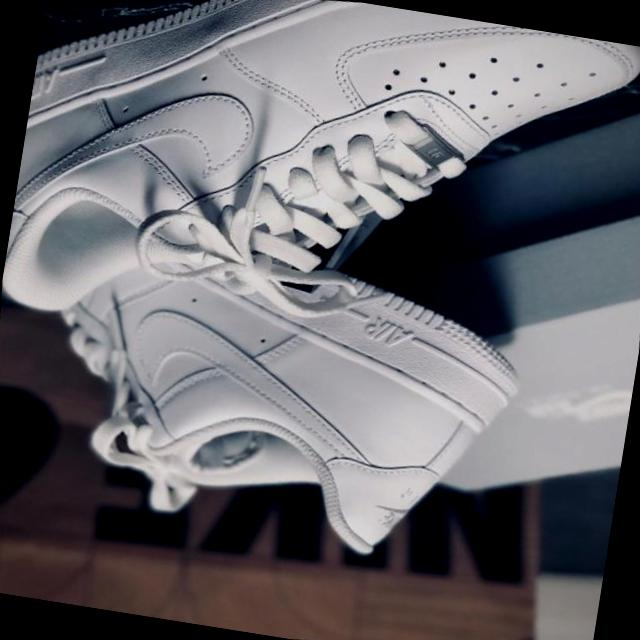nike_original_airforce: (0, 0, 640, 389), (11, 143, 552, 598)
